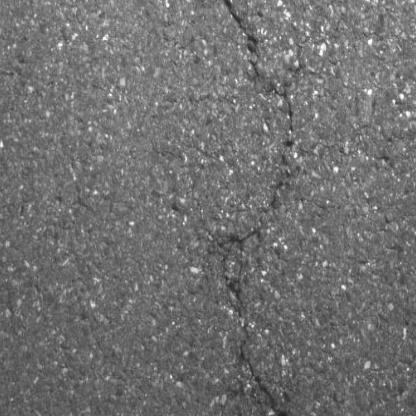Cracks: (215, 228, 296, 416), (211, 0, 300, 152)
